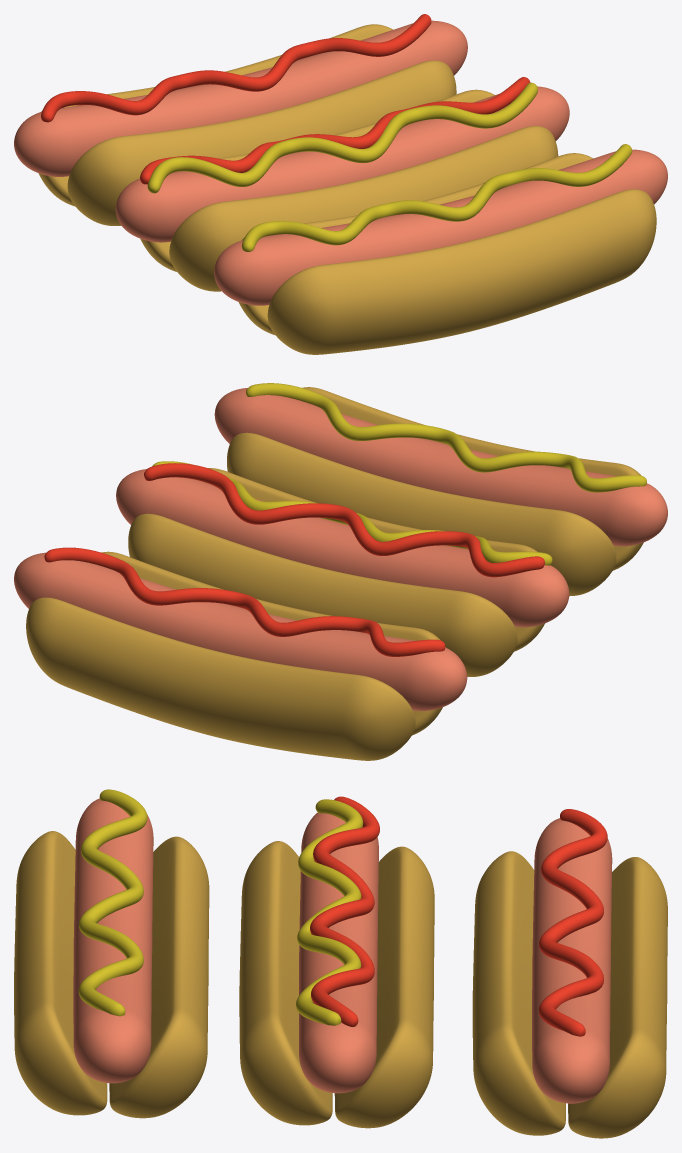
Rendered from hotdog.glb.
3 renders of one model, top to bottom at view 1: azimuth 30°, elevation 25°; view 2: azimuth 150°, elevation 25°; view 3: azimuth 270°, elevation 25°, orthographic. The views are drawn at different scales.
Parts seen in each view (by area): view 1: Cube.008, NurbsPath.003, NurbsPath.001, NurbsPath.002, NurbsPath; view 2: Cube.008, NurbsPath, NurbsPath.001, NurbsPath.002, NurbsPath.003; view 3: Cube.008, NurbsPath.001, NurbsPath.002, NurbsPath, NurbsPath.003.
Boxes of the visible parts, x1,y1,x2,y2 form: Cube.008: (14, 20, 667, 354); NurbsPath.003: (147, 82, 537, 193); NurbsPath.001: (41, 14, 431, 122); NurbsPath.002: (241, 144, 632, 251); NurbsPath: (140, 77, 530, 184); Cube.008: (14, 387, 667, 760); NurbsPath: (144, 463, 544, 577); NurbsPath.001: (44, 547, 445, 656); NurbsPath.002: (246, 383, 646, 492); NurbsPath.003: (152, 461, 552, 565); Cube.008: (14, 798, 667, 1138); NurbsPath.001: (539, 809, 607, 1036); NurbsPath.002: (78, 789, 147, 1016); NurbsPath: (310, 796, 379, 1026); NurbsPath.003: (296, 799, 363, 1025).
Size of the model in its own units: 2.97 by 0.9443 by 3.28.
